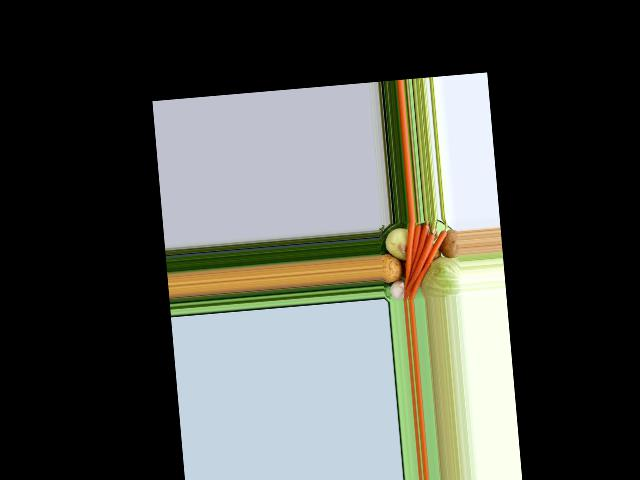carrot: (396, 221, 421, 297)
